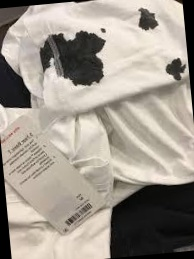ink: (44, 30, 108, 88), (163, 56, 188, 81), (137, 7, 159, 32)
